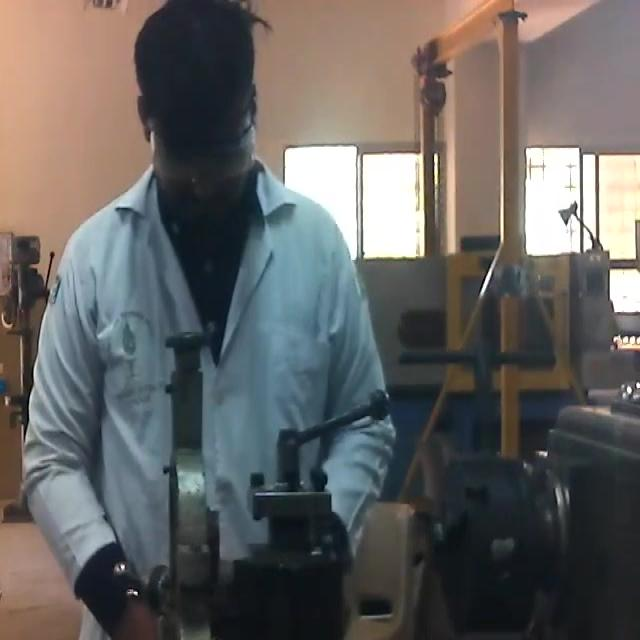googles: (148, 123, 256, 187)
labcoat: (21, 160, 396, 640)
